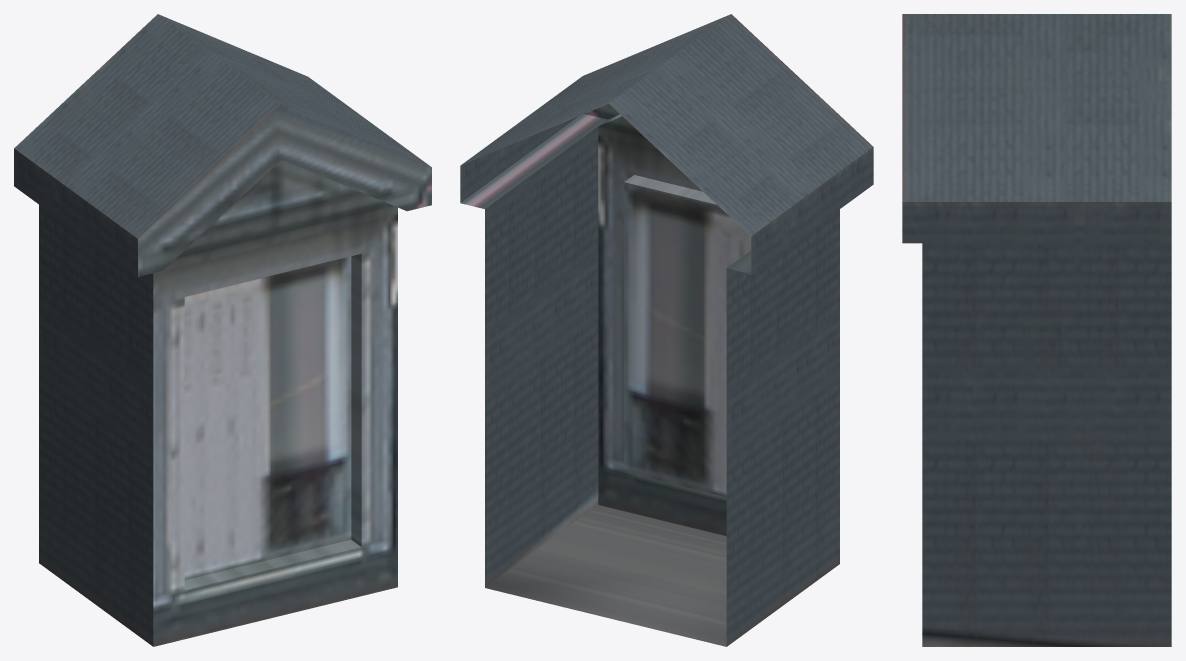
Rendered from comble_6.obj.
The picture shows the model from 3 angles, left to right: view 1: azimuth 30°, elevation 25°; view 2: azimuth 150°, elevation 25°; view 3: azimuth 270°, elevation 25°; orthographic projection. The views are drawn at different scales.
Parts seen in each view (by area): view 1: pCube2; view 2: pCube2; view 3: pCube2.
Boxes of the visible parts, left/top/right/bottom form: pCube2: left=14, top=14, right=431, bottom=646; pCube2: left=460, top=14, right=873, bottom=646; pCube2: left=902, top=14, right=1171, bottom=646.
Bounding box in the file's own units: 1.77 × 3 × 1.29.
Materials: 1 (1 with a texture image).
